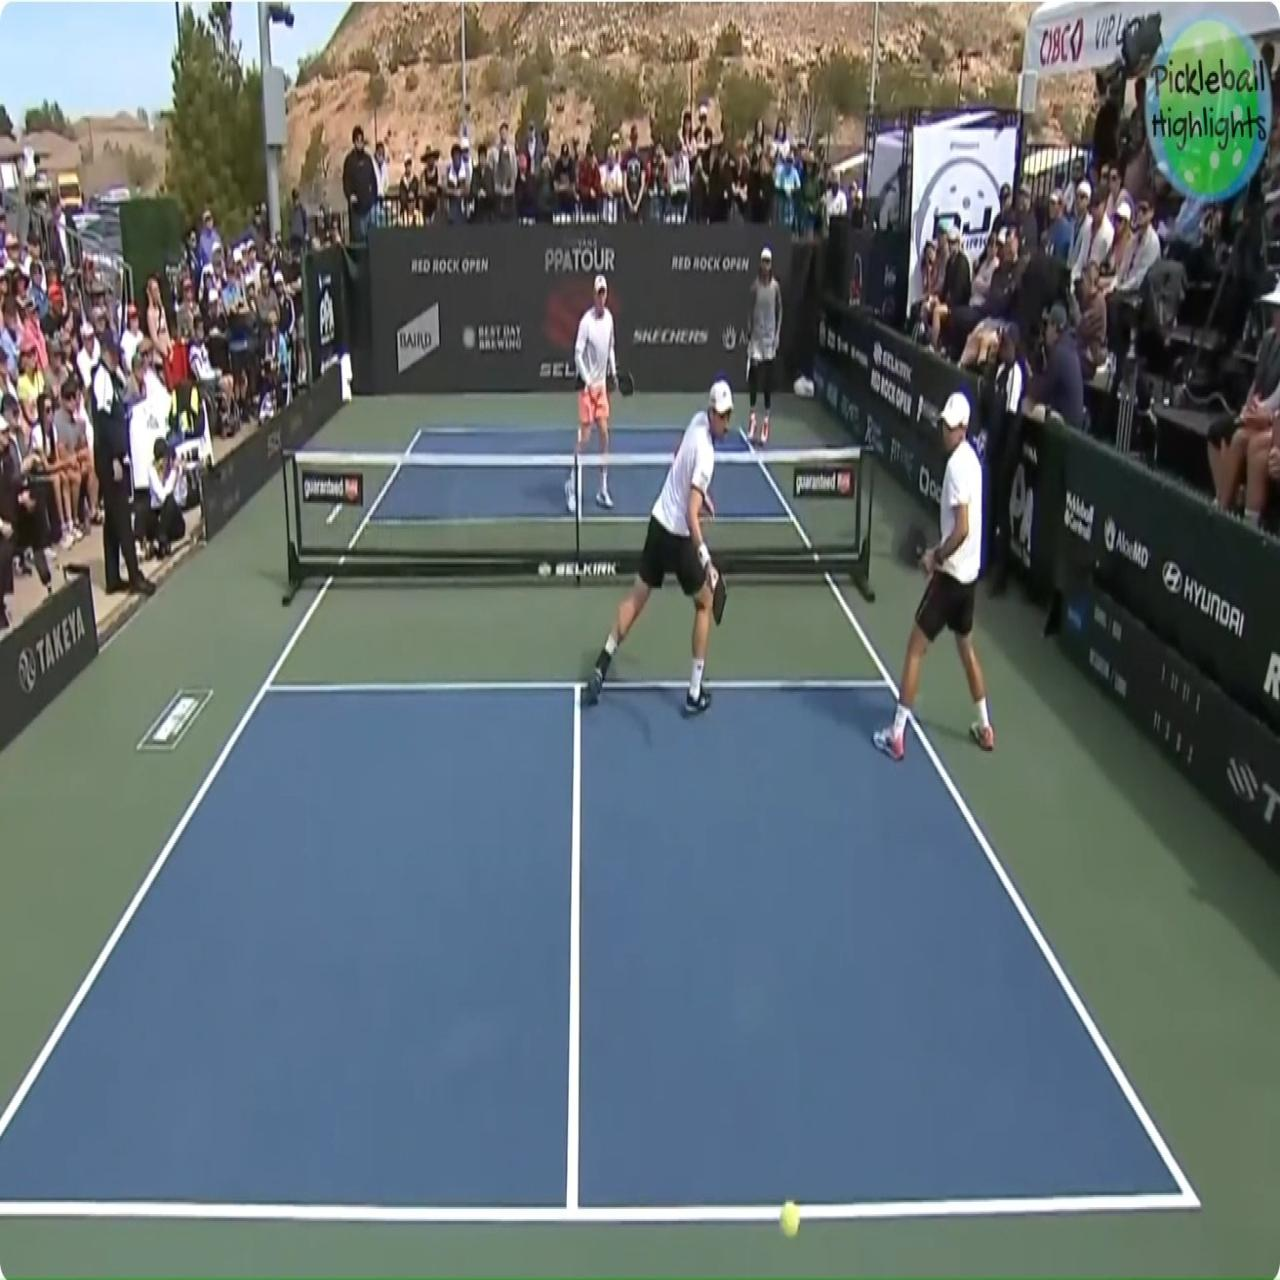pickleball: (779, 1200, 799, 1237)
